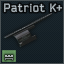Mosin Arbalet Patriot K+W rail mount: (0, 0, 64, 64)
